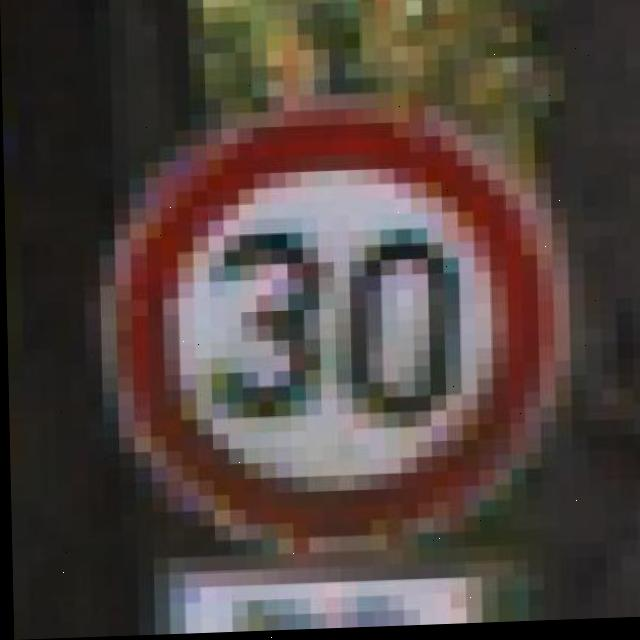Speed limit 30: (111, 104, 561, 561)
